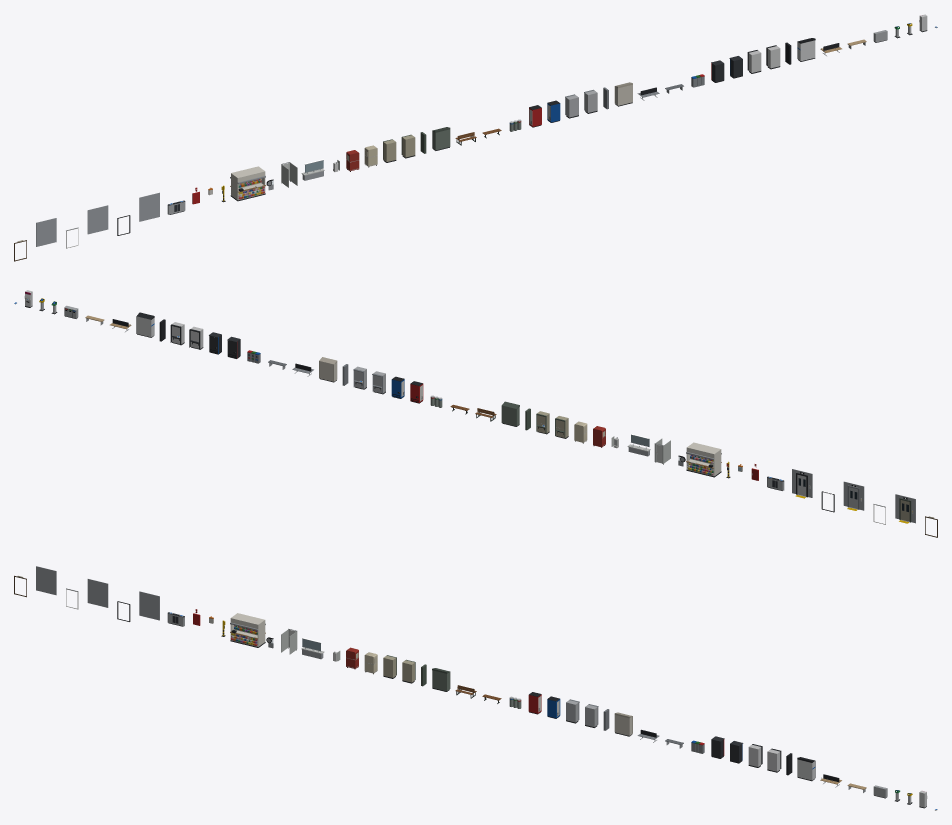
Rendered from station.glb.
The picture shows the model from 3 angles, top to bottom: view 1: azimuth 30°, elevation 25°; view 2: azimuth 150°, elevation 25°; view 3: azimuth 330°, elevation 25°; orthographic projection.
Parts seen in each view (by area): view 1: station_kiosk_body, station_lift_mid_body; view 2: station_kiosk_body, station_lift_mid_body, station_lift_old_body, station_lift_new_body; view 3: station_kiosk_body, station_lift_mid_body, station_lift_new_body, station_lift_old_body.
Part boxes in pixels (x1=…): station_kiosk_body: x1=230, y1=166, x2=266, y2=201; station_lift_mid_body: x1=87, y1=205, x2=108, y2=234; station_kiosk_body: x1=686, y1=442, x2=721, y2=477; station_lift_mid_body: x1=843, y1=481, x2=864, y2=510; station_lift_old_body: x1=895, y1=494, x2=915, y2=523; station_lift_new_body: x1=792, y1=469, x2=812, y2=498; station_kiosk_body: x1=230, y1=613, x2=265, y2=647; station_lift_mid_body: x1=87, y1=579, x2=108, y2=607; station_lift_new_body: x1=139, y1=591, x2=159, y2=620; station_lift_old_body: x1=36, y1=566, x2=56, y2=595.
Size of the model in its own units: 100 by 3.44 by 1.6.
